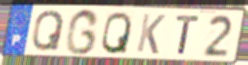2: (202, 14, 235, 59)
G: (63, 8, 101, 57)
K: (134, 12, 167, 56)
Q: (30, 9, 66, 53), (100, 10, 134, 56)
T: (174, 15, 202, 56)
